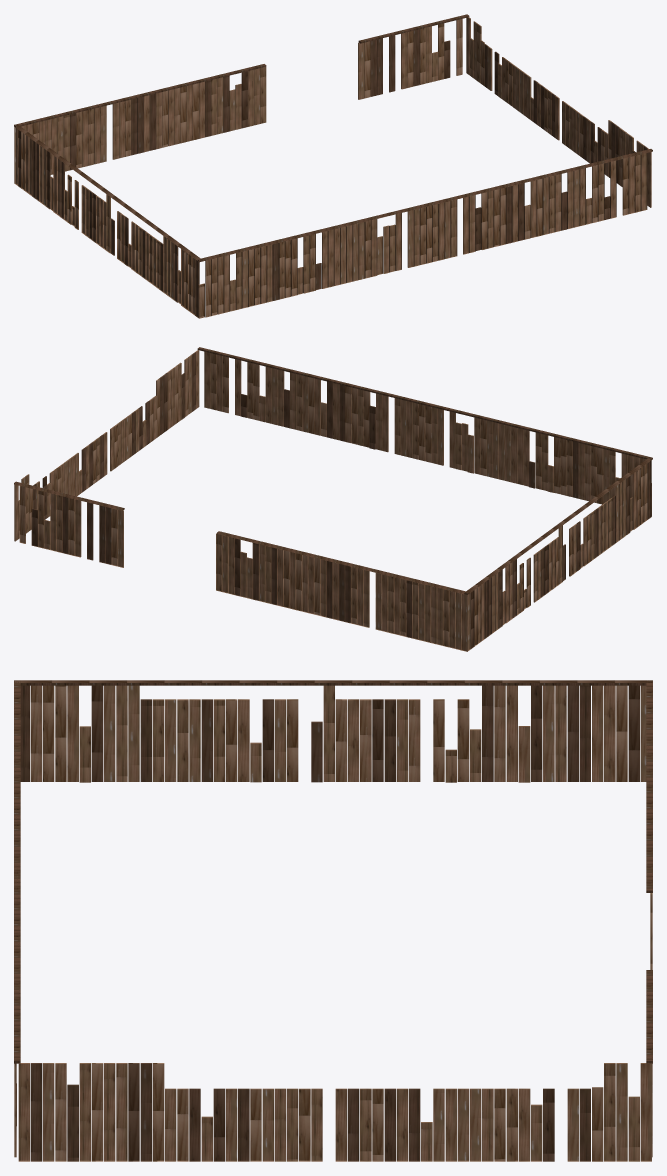
File: Wainscot.obj
3 views of the same model, one above another, from view 1: azimuth 30°, elevation 25°; view 2: azimuth 150°, elevation 25°; view 3: azimuth 270°, elevation 25° (orthographic). The views are drawn at different scales.
Visible parts, largest first — view 1: boards, rail; view 2: boards, rail; view 3: boards, rail.
Boxes of the visible parts, x1,y1,x2,y2 form: boards: (14, 17, 651, 318); rail: (14, 14, 652, 261); boards: (14, 350, 651, 651); rail: (14, 347, 652, 594); boards: (14, 685, 652, 1161); rail: (14, 680, 652, 1063).
Size of the model in its own units: 9.61 by 1.18 by 6.81.
2 materials, 2 textured.
